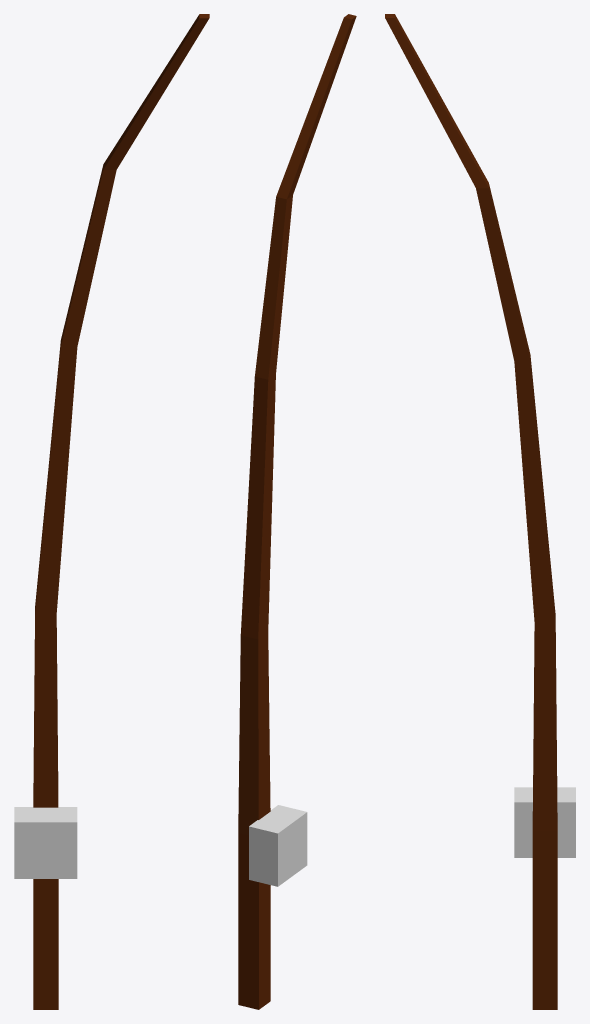
The model's file is fishing_rod.fbx.
3 renders of one model, left to right at view 1: azimuth 90°, elevation 25°; view 2: azimuth 150°, elevation 25°; view 3: azimuth 270°, elevation 25°, orthographic. The views are drawn at different scales.
Parts seen in each view (by area): view 1: Cube, Cube.001; view 2: Cube, Cube.001; view 3: Cube, Cube.001.
Boxes of the visible parts, x1,y1,x2,y2 form: Cube: [33, 14, 209, 1009]; Cube.001: [14, 807, 77, 878]; Cube: [238, 14, 356, 1009]; Cube.001: [249, 805, 307, 886]; Cube: [385, 14, 557, 1009]; Cube.001: [514, 787, 575, 857].
Bounding box in the file's own units: 63.1 × 1165 × 206.
